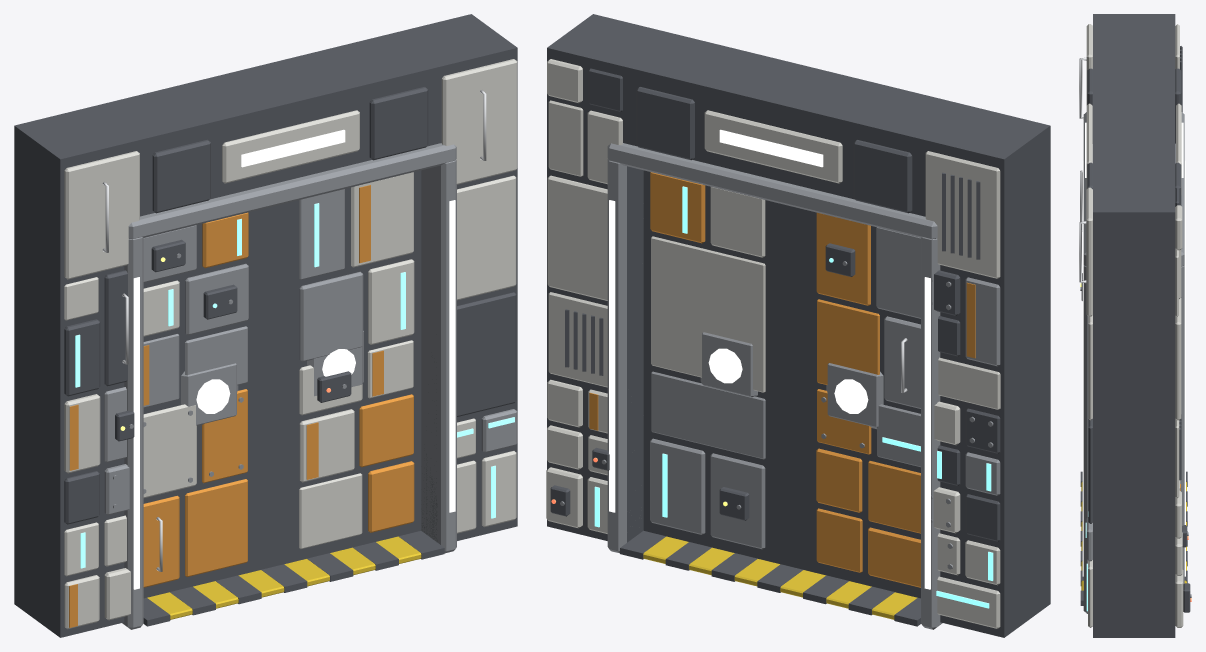
Rendered from door_split.glb.
3 views of the same model, side by side, from view 1: azimuth 30°, elevation 25°; view 2: azimuth 150°, elevation 25°; view 3: azimuth 270°, elevation 25° (orthographic). The views are drawn at different scales.
Visible parts, largest first — view 1: frame, leaf_r, leaf_l; view 2: frame, leaf_r, leaf_l; view 3: frame.
Part boxes in pixels (box(x1,y1,x2,y2)): frame: box(14, 14, 517, 637); leaf_r: box(256, 170, 421, 562); leaf_l: box(143, 210, 288, 598); frame: box(546, 14, 1050, 637); leaf_r: box(643, 170, 807, 562); leaf_l: box(776, 210, 920, 598); frame: box(1079, 14, 1191, 637).
Bounding box in the file's own units: 4 × 4.05 × 0.9597.
